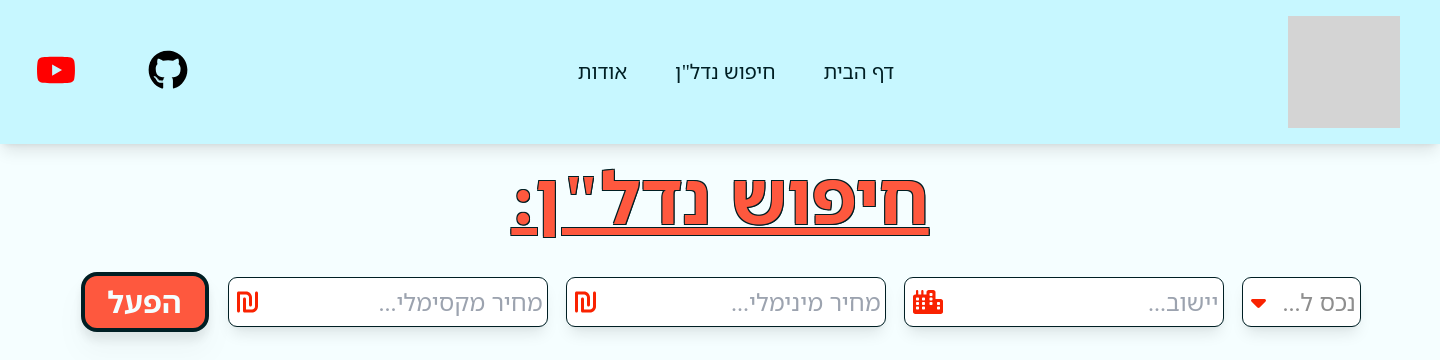
Test case: Search Page › search form › price input fields › format the typed number with commas for every 4 digits
Type "1000000" into the field with test id "feature-search-form-price-input-field-min-price-input" at (726, 302), box top-left (567, 278), bottom-right (885, 326)
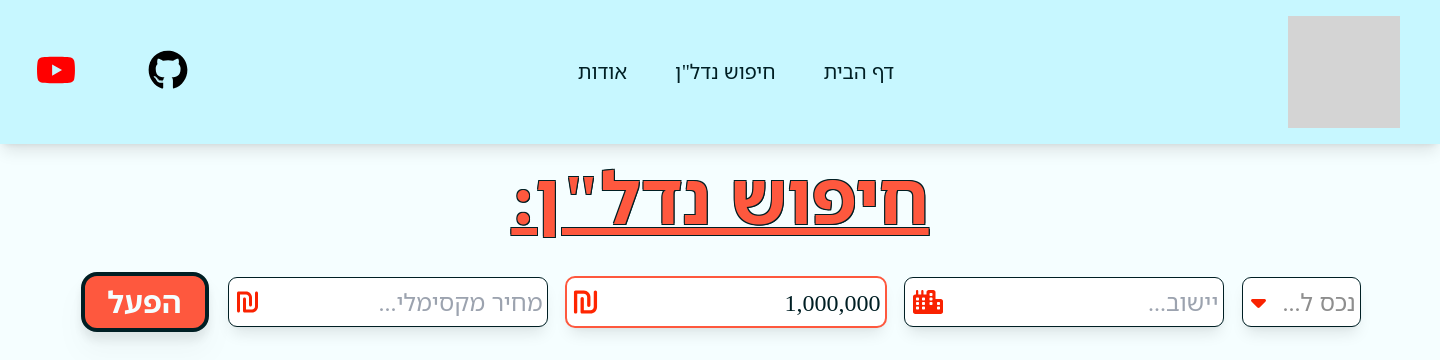
Now the field with test id "feature-search-form-price-input-field-min-price-input" holds "1,000,000"
Press Backspace in the field with test id "feature-search-form-price-input-field-min-price-input", box top-left (567, 278), bottom-right (885, 326)
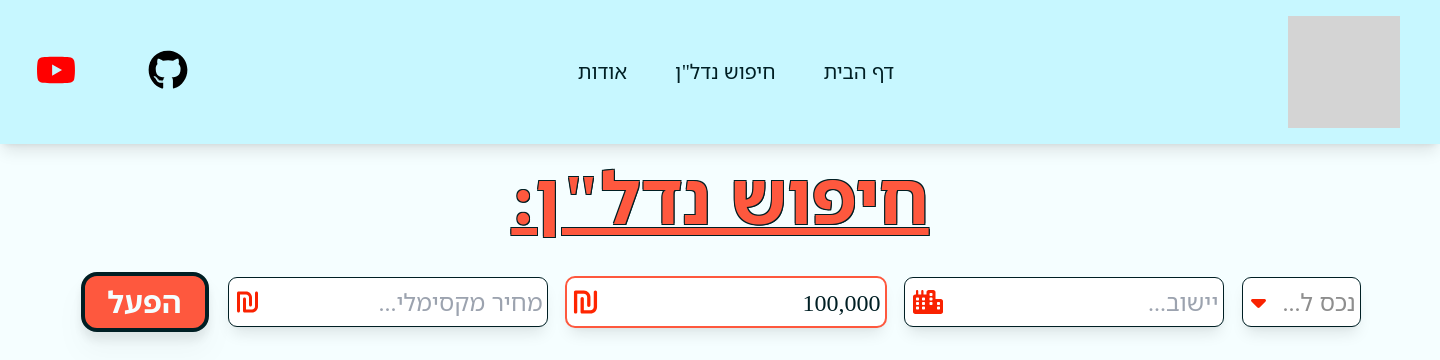
Now the field with test id "feature-search-form-price-input-field-min-price-input" holds "100,000"
Press Backspace Backspace Backspace in the field with test id "feature-search-form-price-input-field-min-price-input", box top-left (567, 278), bottom-right (885, 326)
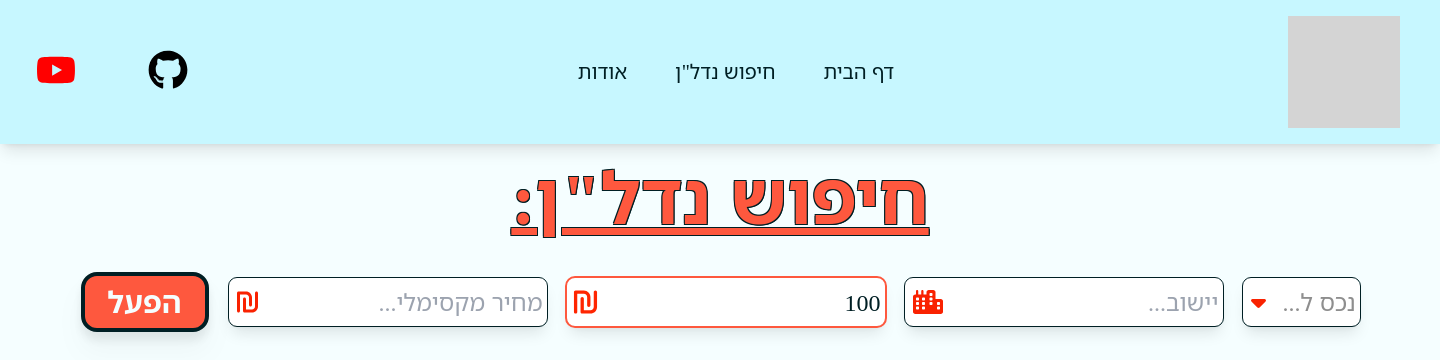
Now the field with test id "feature-search-form-price-input-field-min-price-input" holds "100", box top-left (567, 278), bottom-right (885, 326)
Type "1000000" into the field with test id "feature-search-form-price-input-field-max-price-input" at (388, 302), box top-left (229, 278), bottom-right (547, 326)
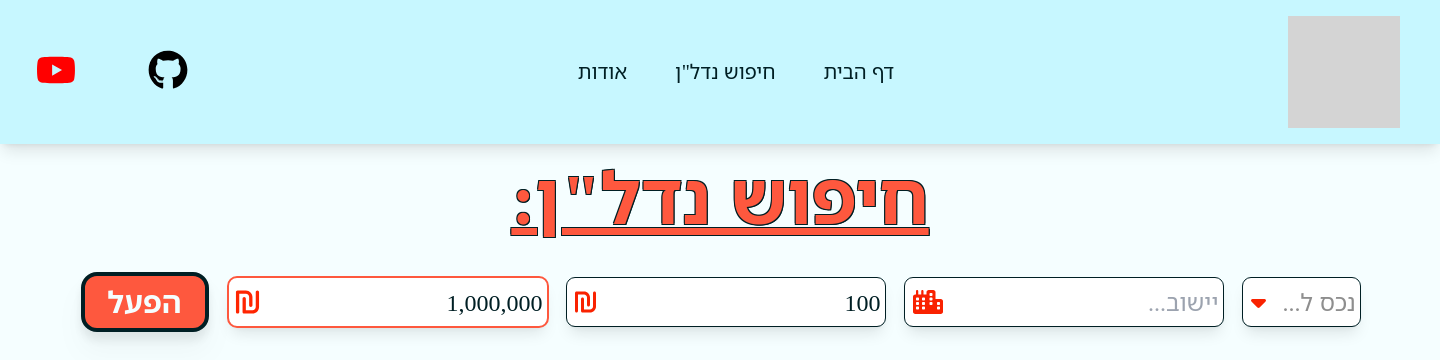
Now the field with test id "feature-search-form-price-input-field-max-price-input" holds "1,000,000"
Press Backspace in the field with test id "feature-search-form-price-input-field-max-price-input", box top-left (229, 278), bottom-right (547, 326)
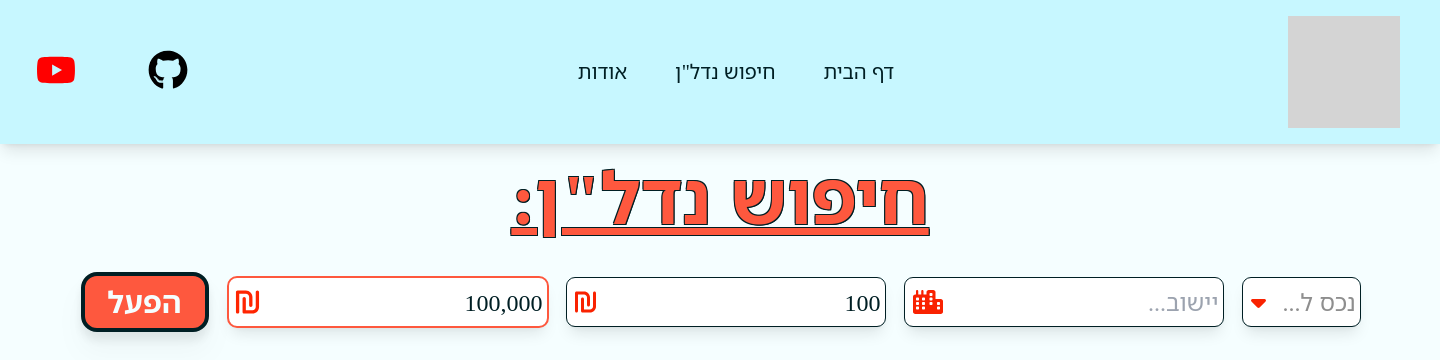
Now the field with test id "feature-search-form-price-input-field-max-price-input" holds "100,000"
Press Backspace Backspace Backspace in the field with test id "feature-search-form-price-input-field-max-price-input", box top-left (229, 278), bottom-right (547, 326)
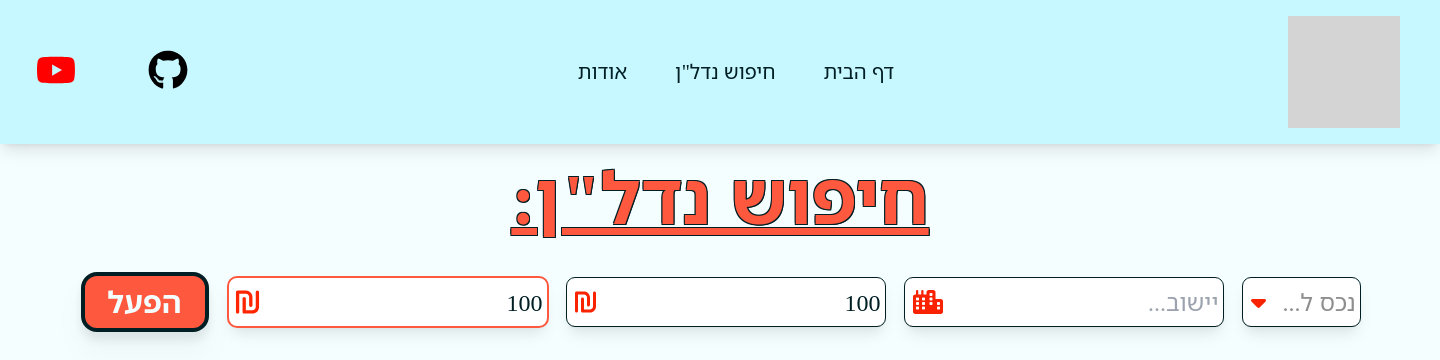
Now the field with test id "feature-search-form-price-input-field-max-price-input" holds "100", box top-left (229, 278), bottom-right (547, 326)
